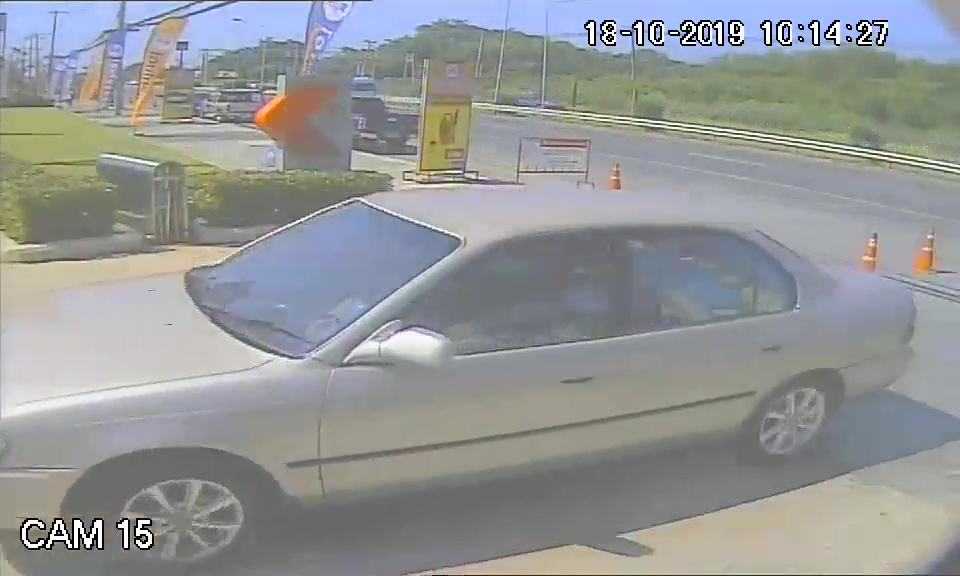sedan: (6, 184, 915, 507)
